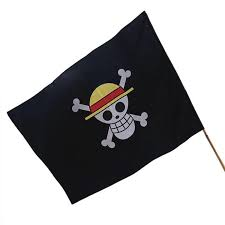Jolly Roger Flag: (12, 12, 205, 200)
